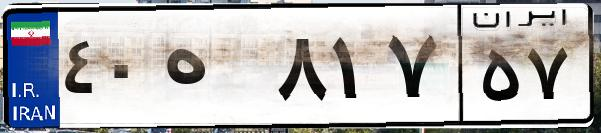0: (110, 28, 158, 98)
1: (330, 28, 385, 110)
4: (57, 26, 110, 100)
5: (475, 38, 525, 113)
7: (385, 28, 445, 110), (525, 38, 570, 115)
8: (270, 28, 330, 110)
ه: (158, 20, 270, 120)
